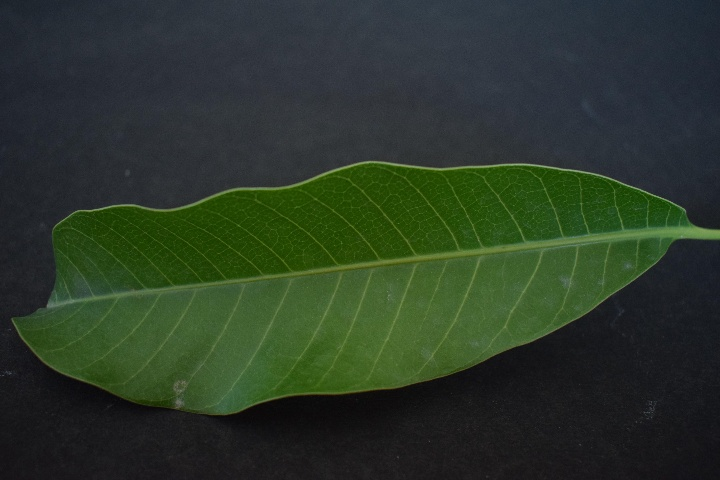healthy: (41, 158, 662, 404)
